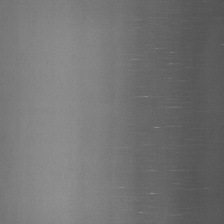waist_folding: (117, 16, 206, 200)
